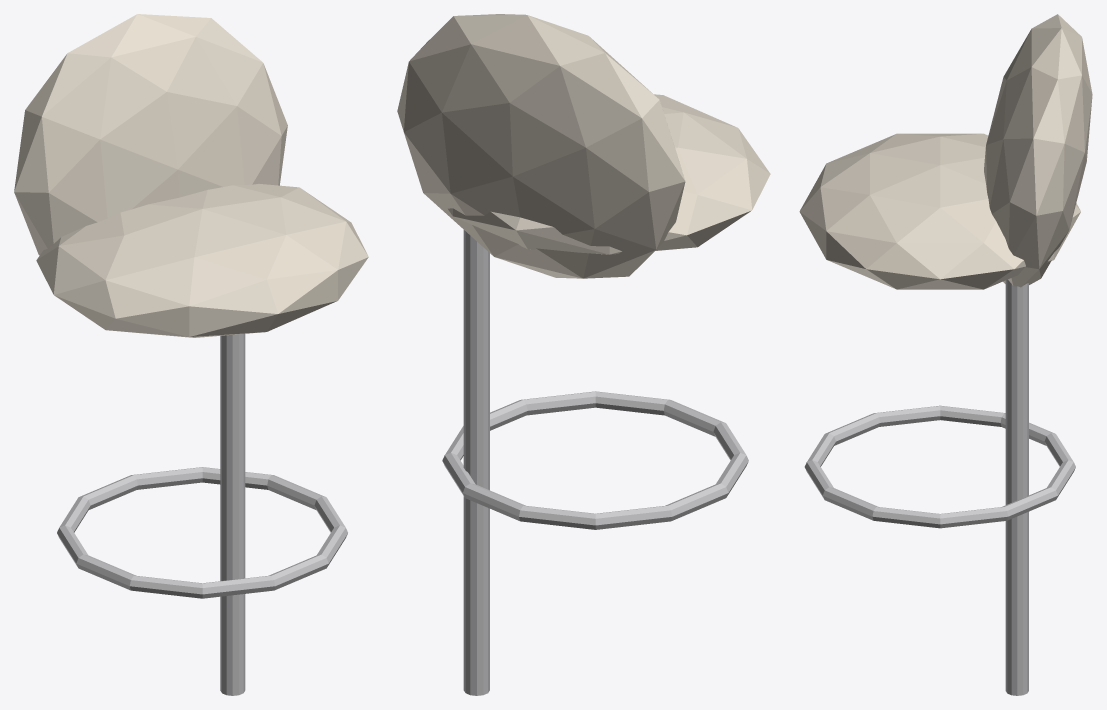
The model's file is bar_stool_low.glb.
3 renders of one model, left to right at view 1: azimuth 30°, elevation 25°; view 2: azimuth 150°, elevation 25°; view 3: azimuth 270°, elevation 25°, orthographic. The views are drawn at different scales.
Parts seen in each view (by area): view 1: FABRIC_MAIN_back, FABRIC_MAIN_seat, METAL_footrest, METAL_DARK_leg; view 2: FABRIC_MAIN_back, FABRIC_MAIN_seat, METAL_DARK_leg, METAL_footrest; view 3: FABRIC_MAIN_seat, FABRIC_MAIN_back, METAL_DARK_leg, METAL_footrest.
Part boxes in pixels (x1=…): FABRIC_MAIN_back: x1=14, y1=14, x2=287, y2=255; FABRIC_MAIN_seat: x1=36, y1=184, x2=368, y2=337; METAL_footrest: x1=57, y1=467, x2=347, y2=598; METAL_DARK_leg: x1=220, y1=334, x2=245, y2=695; FABRIC_MAIN_back: x1=397, y1=14, x2=685, y2=278; FABRIC_MAIN_seat: x1=448, y1=94, x2=770, y2=254; METAL_DARK_leg: x1=463, y1=230, x2=489, y2=695; METAL_footrest: x1=442, y1=391, x2=748, y2=529; FABRIC_MAIN_seat: x1=799, y1=133, x2=1080, y2=289; FABRIC_MAIN_back: x1=984, y1=14, x2=1092, y2=287; METAL_DARK_leg: x1=1005, y1=279, x2=1028, y2=695; METAL_footrest: x1=804, y1=405, x2=1075, y2=528.
Bounding box in the file's own units: 0.5 × 1.09 × 0.4577.
